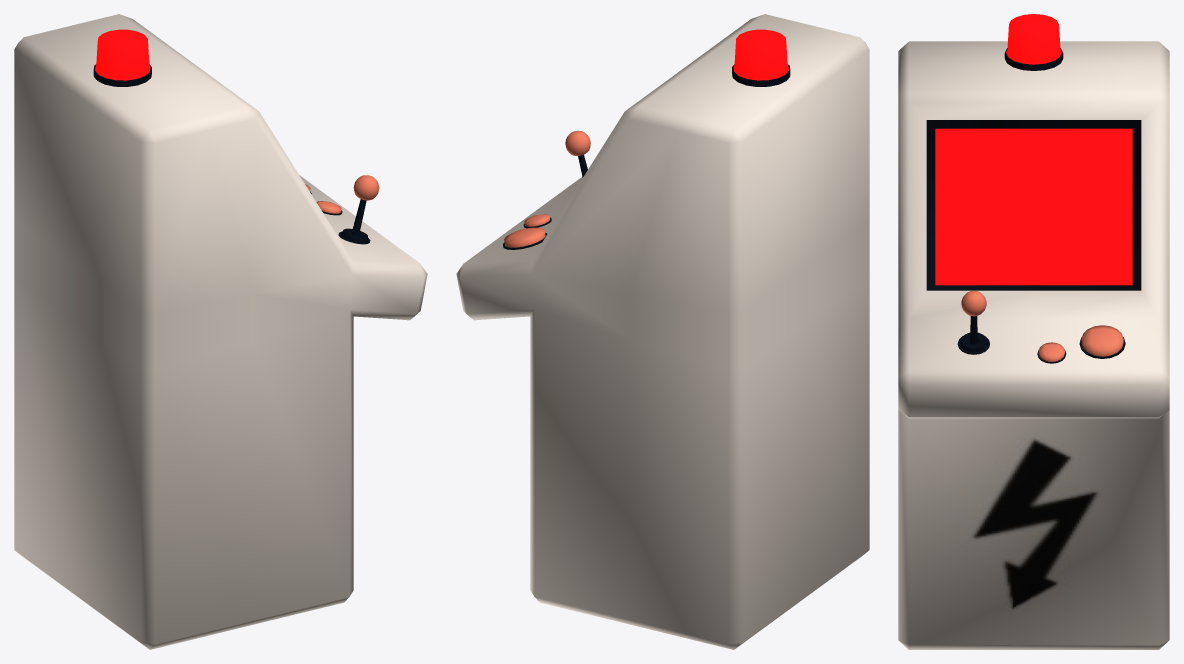
File: Pulse Panel.fbx
The picture shows the model from 3 angles, left to right: view 1: azimuth 30°, elevation 25°; view 2: azimuth 150°, elevation 25°; view 3: azimuth 270°, elevation 25°; orthographic projection.
Visible parts, largest first — view 1: Pulse Panel; view 2: Pulse Panel; view 3: Pulse Panel.
Part boxes in pixels (left/top/right/bottom): Pulse Panel: left=14, top=14, right=427, bottom=649; Pulse Panel: left=456, top=14, right=869, bottom=649; Pulse Panel: left=898, top=14, right=1169, bottom=649.
Size of the model in its own units: 1.13 by 2.12 by 0.9376.
